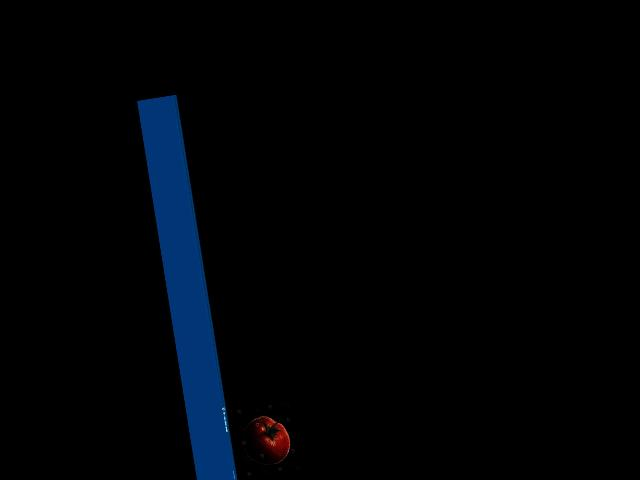tomato: (238, 412, 293, 469)
